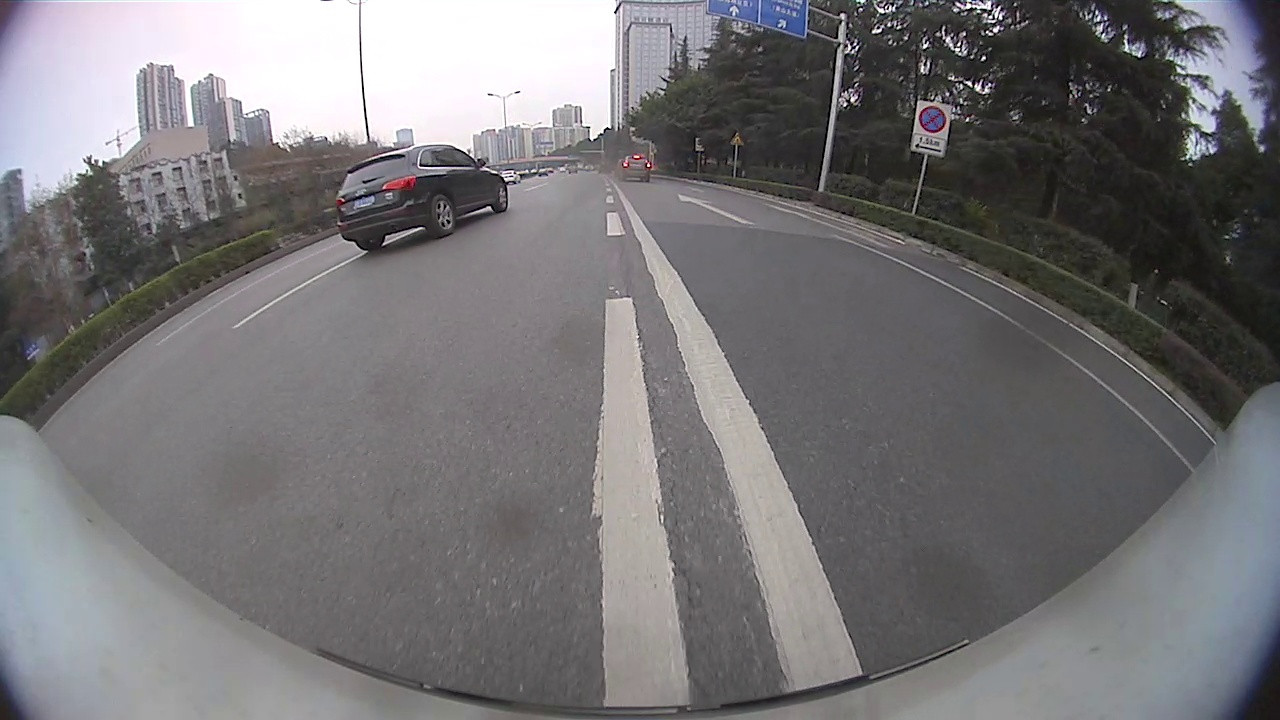car: (335, 143, 508, 251), (616, 153, 652, 181), (501, 170, 522, 185)
front: (495, 185, 510, 212)
rear: (430, 195, 458, 237)
